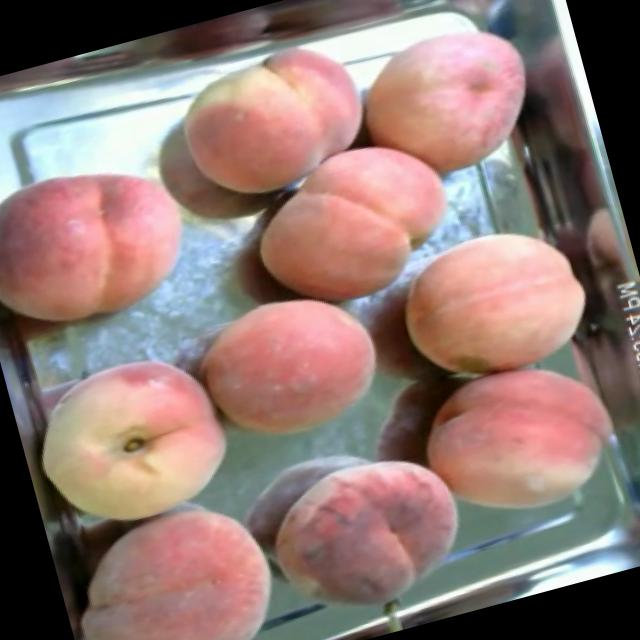Fruit: (238, 418, 492, 640), (6, 324, 252, 546), (224, 112, 477, 326), (152, 13, 394, 230), (0, 131, 212, 358), (172, 263, 402, 470), (402, 343, 635, 542), (376, 198, 610, 395), (334, 0, 560, 200), (46, 477, 306, 640)
